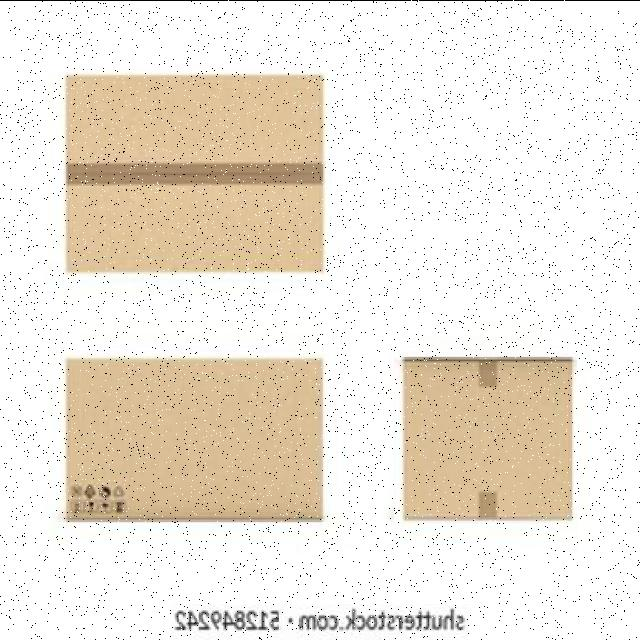normal: (58, 71, 331, 277), (60, 350, 329, 524), (394, 351, 577, 526)
